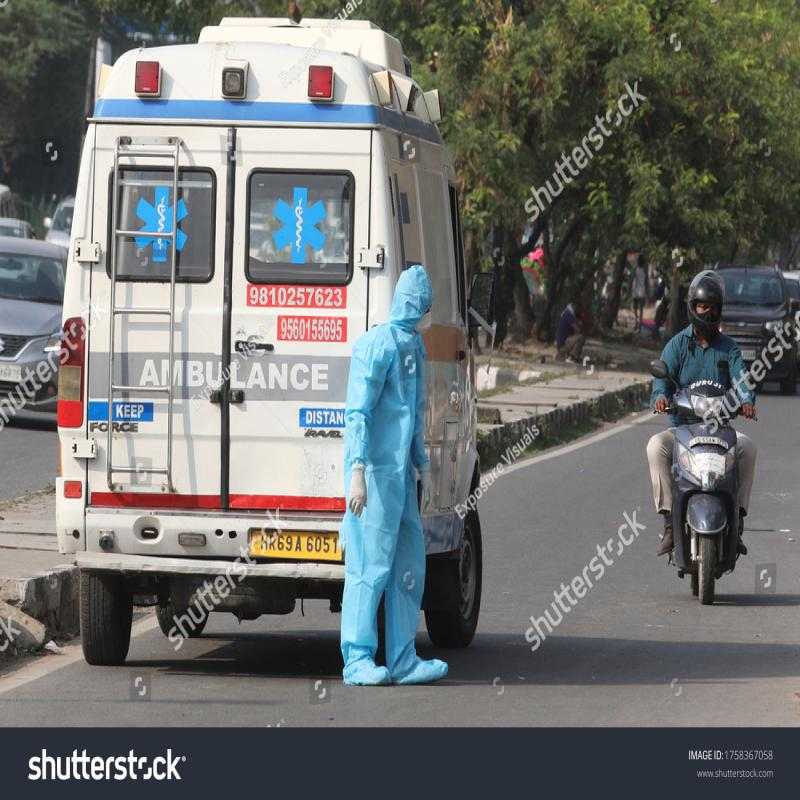ambulance: (56, 20, 493, 679)
